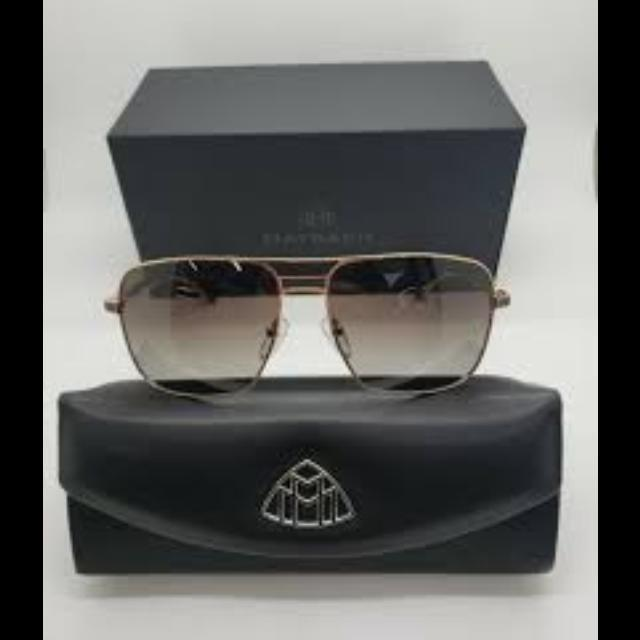sunglasses: (93, 250, 525, 404)
